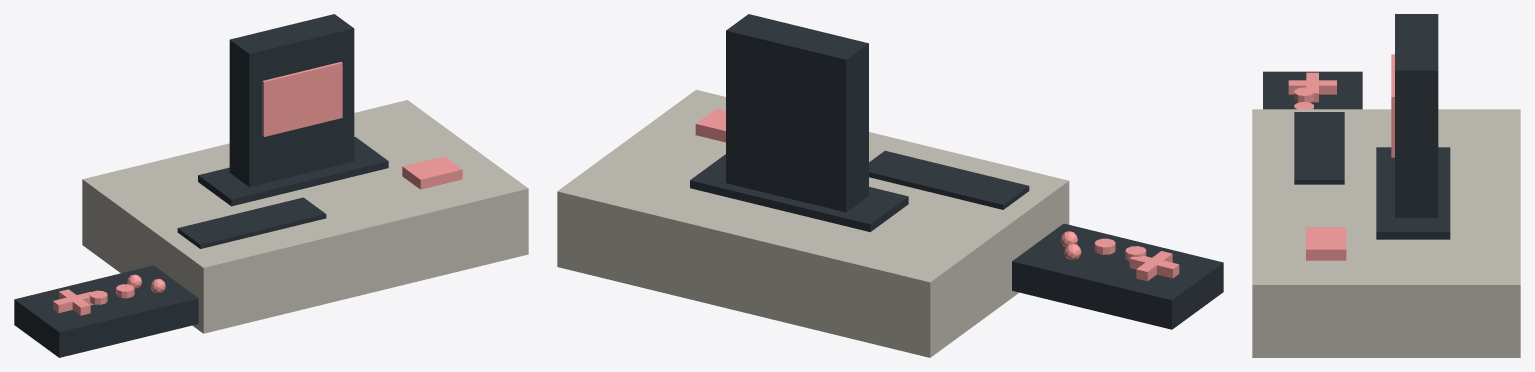
File: cartridge-console-lod0.glb
3 renders of one model, left to right at view 1: azimuth 30°, elevation 25°; view 2: azimuth 150°, elevation 25°; view 3: azimuth 270°, elevation 25°, orthographic. The views are drawn at different scales.
Parts seen in each view (by area): view 1: console, cartridge, controller_body, cartridge_label, slot, vent, power_button, controller_dpad_h; view 2: console, cartridge, controller_body, vent, slot, power_button, controller_dpad_h, controller_dpad_v; view 3: console, cartridge, slot, vent, controller_body, power_button, controller_dpad_v, cartridge_label, controller_dpad_h, controller_stick_0.
Boxes of the visible parts, bbox=[...] form: console: bbox=[82, 100, 528, 333]; cartridge: bbox=[229, 14, 354, 186]; controller_body: bbox=[14, 265, 198, 357]; cartridge_label: bbox=[262, 62, 342, 136]; slot: bbox=[198, 137, 388, 206]; vent: bbox=[177, 197, 326, 248]; power_button: bbox=[402, 156, 462, 189]; controller_dpad_h: bbox=[53, 291, 94, 313]; console: bbox=[557, 89, 1069, 357]; cartridge: bbox=[726, 14, 868, 212]; controller_body: bbox=[1012, 223, 1223, 329]; vent: bbox=[869, 150, 1029, 209]; slot: bbox=[690, 154, 908, 232]; power_button: bbox=[695, 108, 725, 142]; controller_dpad_h: bbox=[1129, 255, 1179, 278]; controller_dpad_v: bbox=[1136, 251, 1172, 281]; console: bbox=[1252, 109, 1520, 357]; cartridge: bbox=[1395, 14, 1438, 217]; slot: bbox=[1376, 147, 1450, 239]; vent: bbox=[1294, 112, 1344, 184]; controller_body: bbox=[1263, 71, 1362, 109]; power_button: bbox=[1306, 227, 1346, 260]; controller_dpad_v: bbox=[1288, 80, 1336, 94]; cartridge_label: bbox=[1391, 54, 1394, 157]; controller_dpad_h: bbox=[1306, 72, 1318, 102]; controller_stick_0: bbox=[1294, 87, 1313, 102].
Bounding box in the file's own units: 8.86 × 3.75 × 4.
